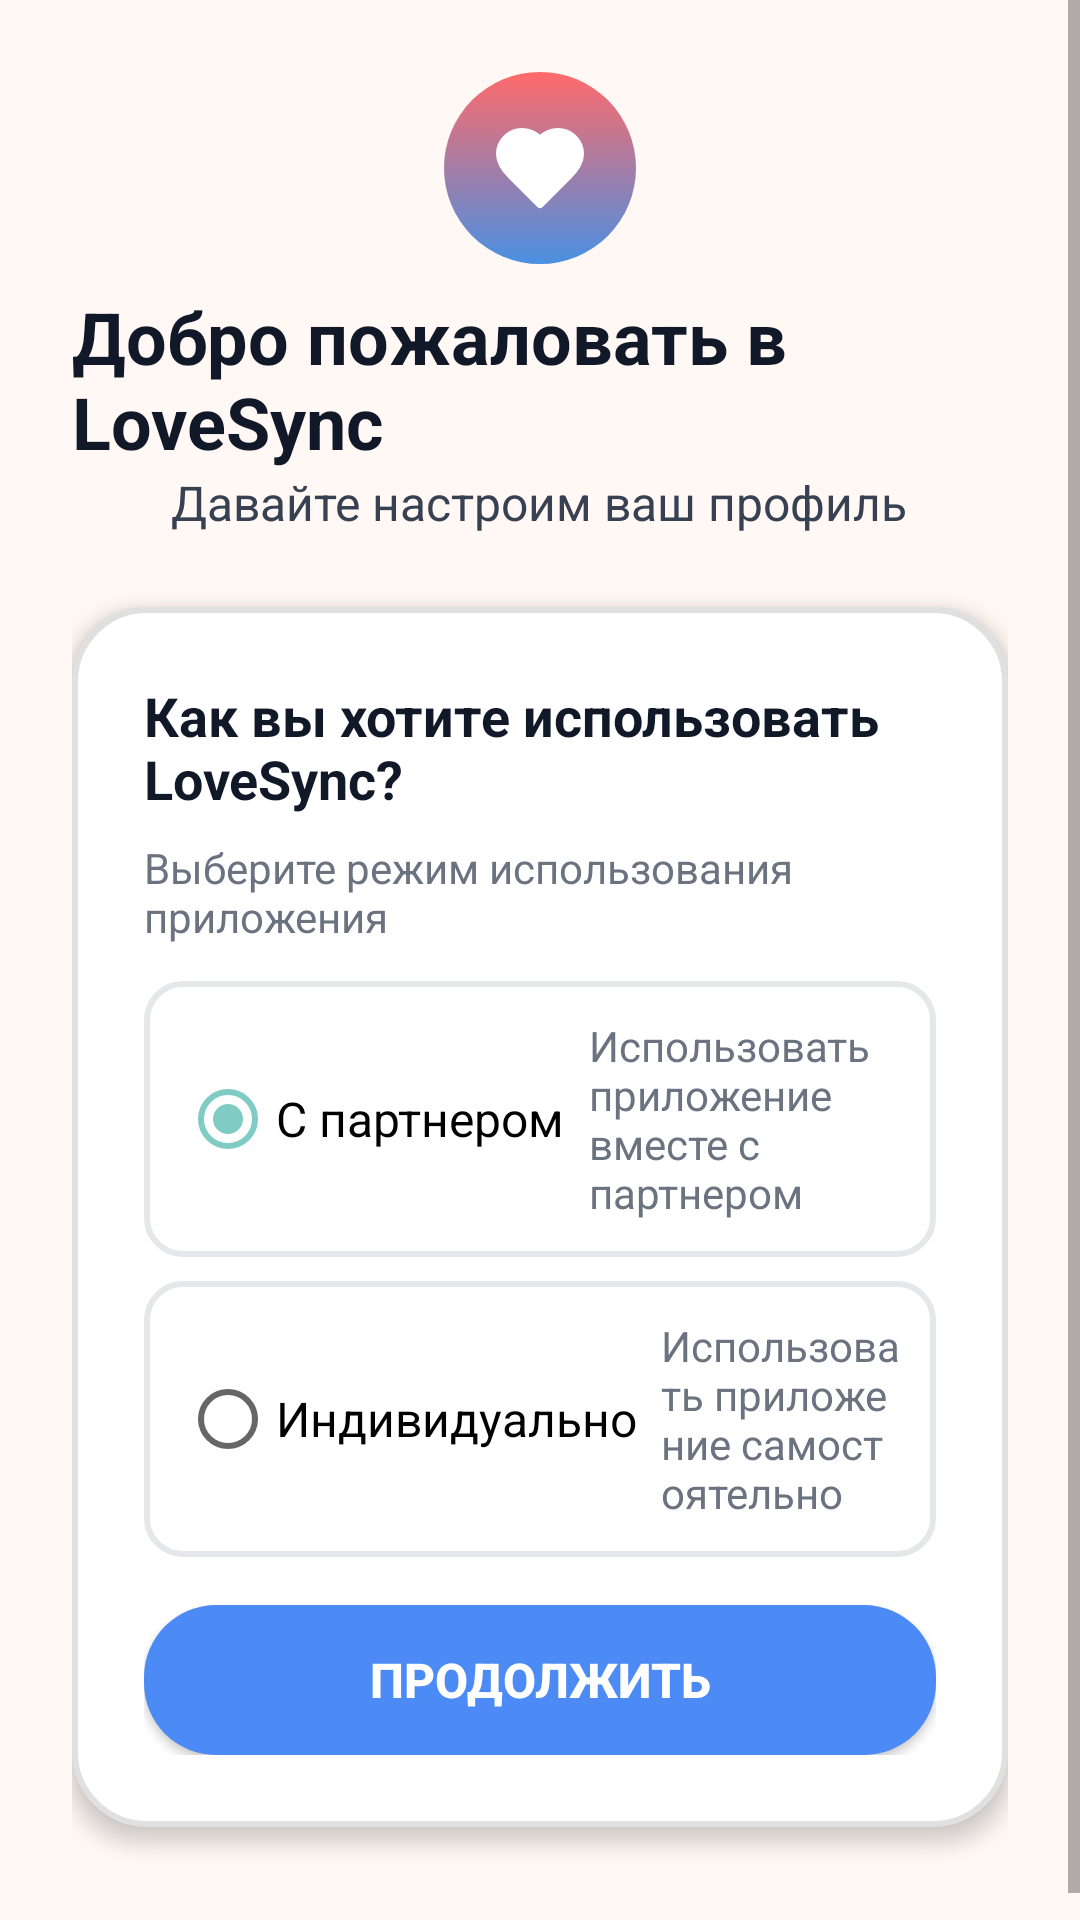

Icons on this 1080x1920 Android screen, each with the point to tap as (x=x, y=y):
heart: (x=540, y=168)
